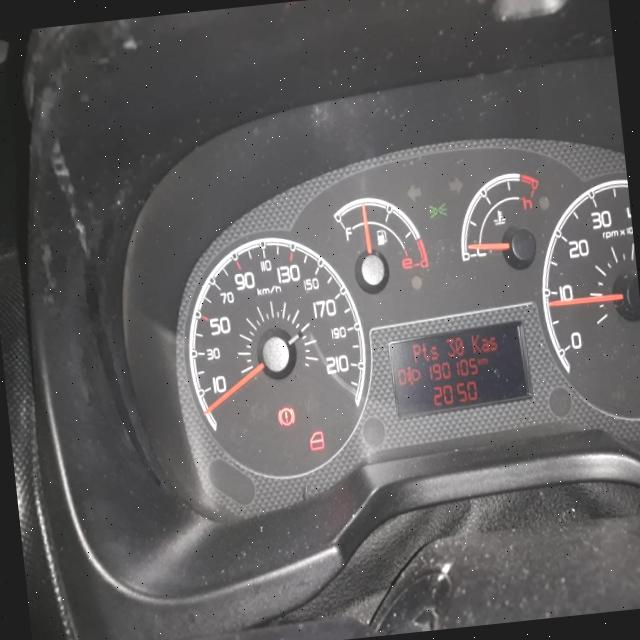odometer: (383, 313, 538, 423)
